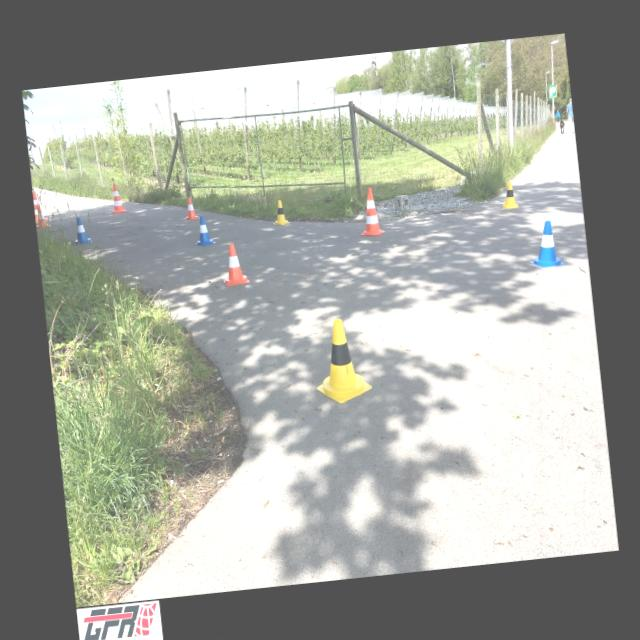blue_cone: (524, 219, 566, 268), (192, 214, 216, 246), (72, 216, 92, 244)
large_orange_cone: (356, 186, 384, 236), (108, 182, 126, 212), (32, 192, 46, 220)
orange_cone: (220, 242, 250, 286), (34, 205, 50, 229), (183, 197, 198, 220)
yellow_cone: (310, 316, 372, 405), (499, 180, 518, 208), (270, 199, 290, 225)
